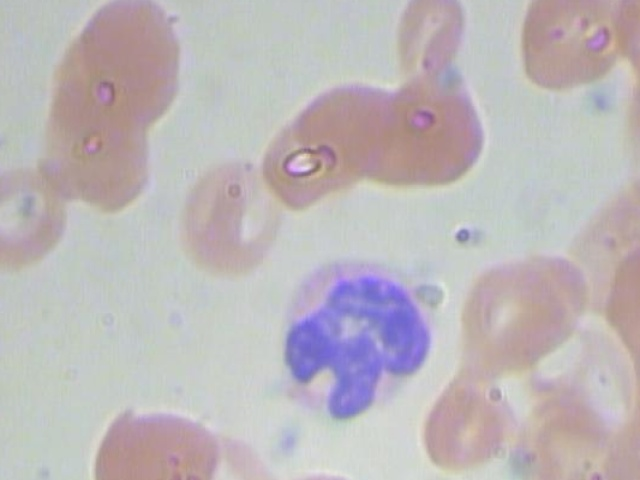Platelets: (263, 410, 316, 462), (418, 473, 471, 480)
RBC: (252, 68, 408, 219), (23, 85, 167, 217), (340, 71, 492, 196), (47, 0, 191, 121), (173, 151, 295, 275), (500, 0, 640, 104), (410, 362, 522, 480), (455, 248, 566, 367), (77, 402, 221, 480), (0, 147, 71, 285), (386, 0, 472, 92), (613, 61, 640, 200), (241, 462, 386, 480), (634, 344, 640, 480)
WBC: (266, 243, 440, 429)
